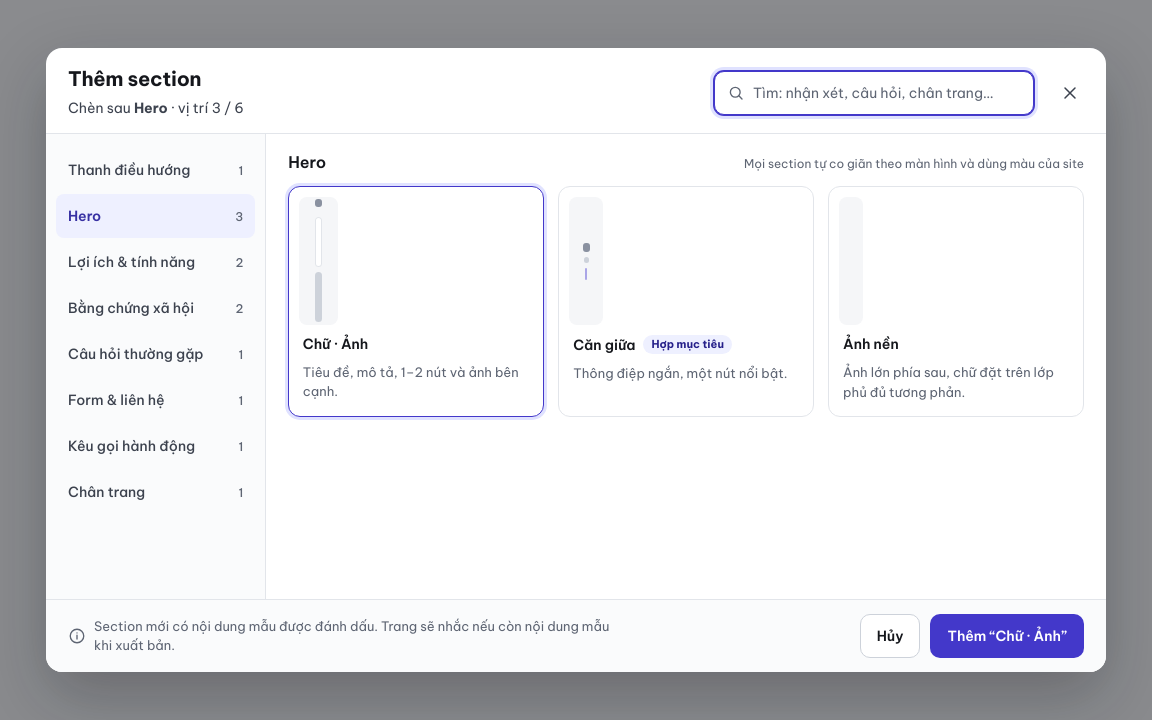
Test: AddSectionDialog › filters by name and description, ignoring Vietnamese accents
In the search field named "Tìm section": (889, 92) [745,72,1033,114], type "nhan xet"
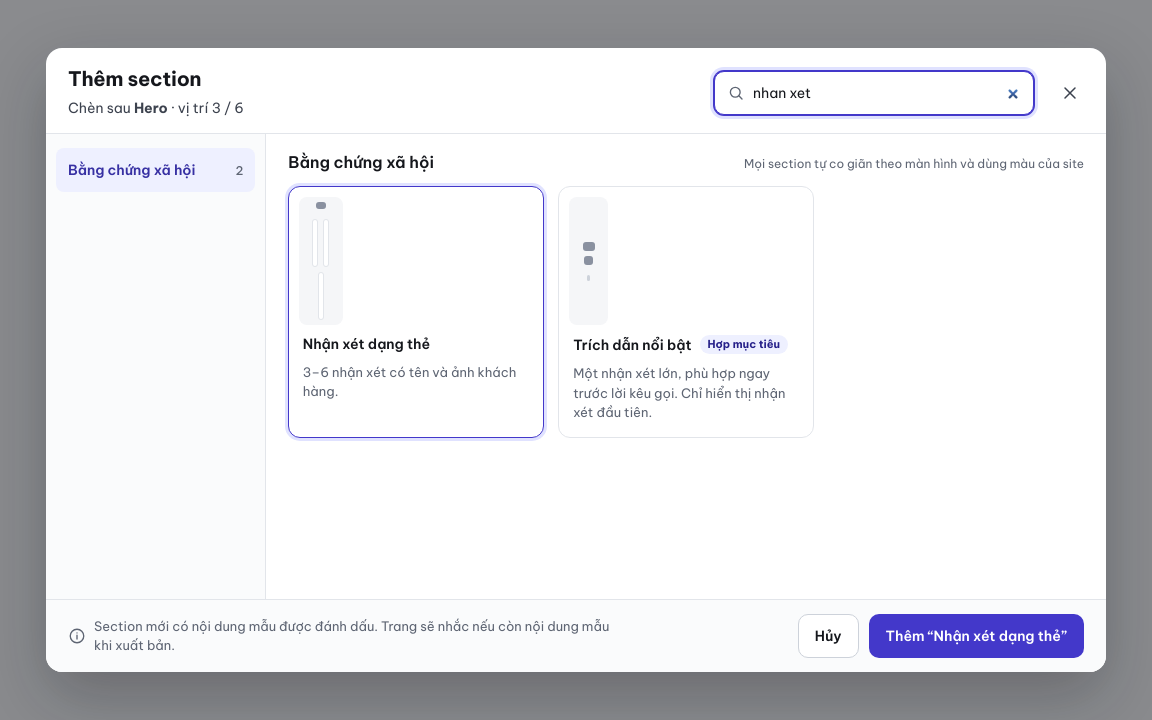
Expected: the button "Bằng chứng xã hội 2" is shown, [56,148,255,192]
Result: the button "Nhận xét dạng thẻ 3–6 nhận xét có tên và ảnh khách hàng." is shown at [288,186,544,438]
Result: the button "Trích dẫn nổi bật" is shown at [558,186,814,438]
Replace the text in the search field named "Tìm section" with "bảng giá": (889, 92) [745,72,1033,114]
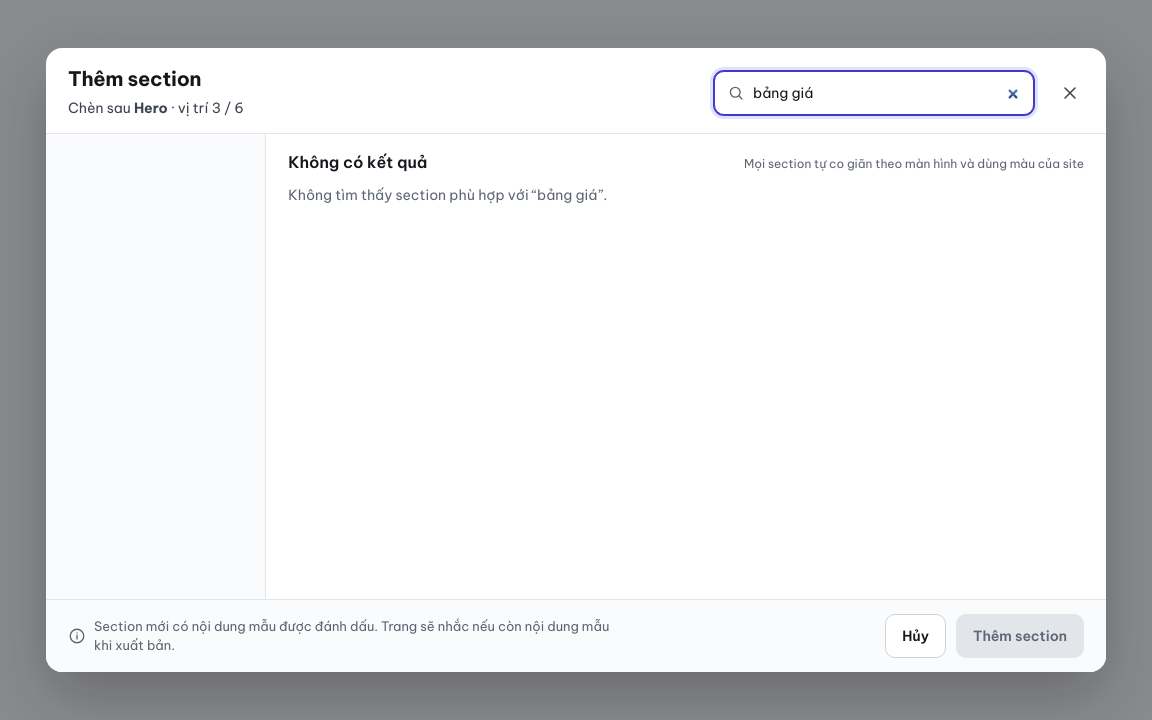
Result: the text "Không tìm thấy section phù hợp với “bảng giá”." is shown at [288,186,607,204]
